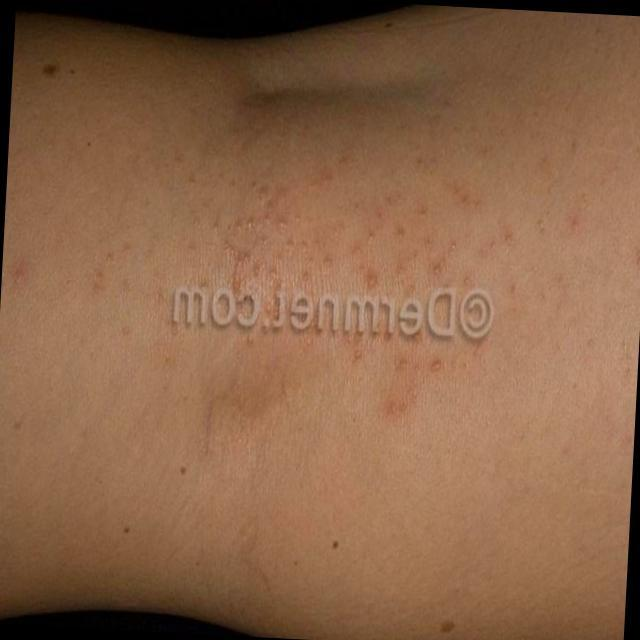Eczema: (110, 153, 551, 404)
